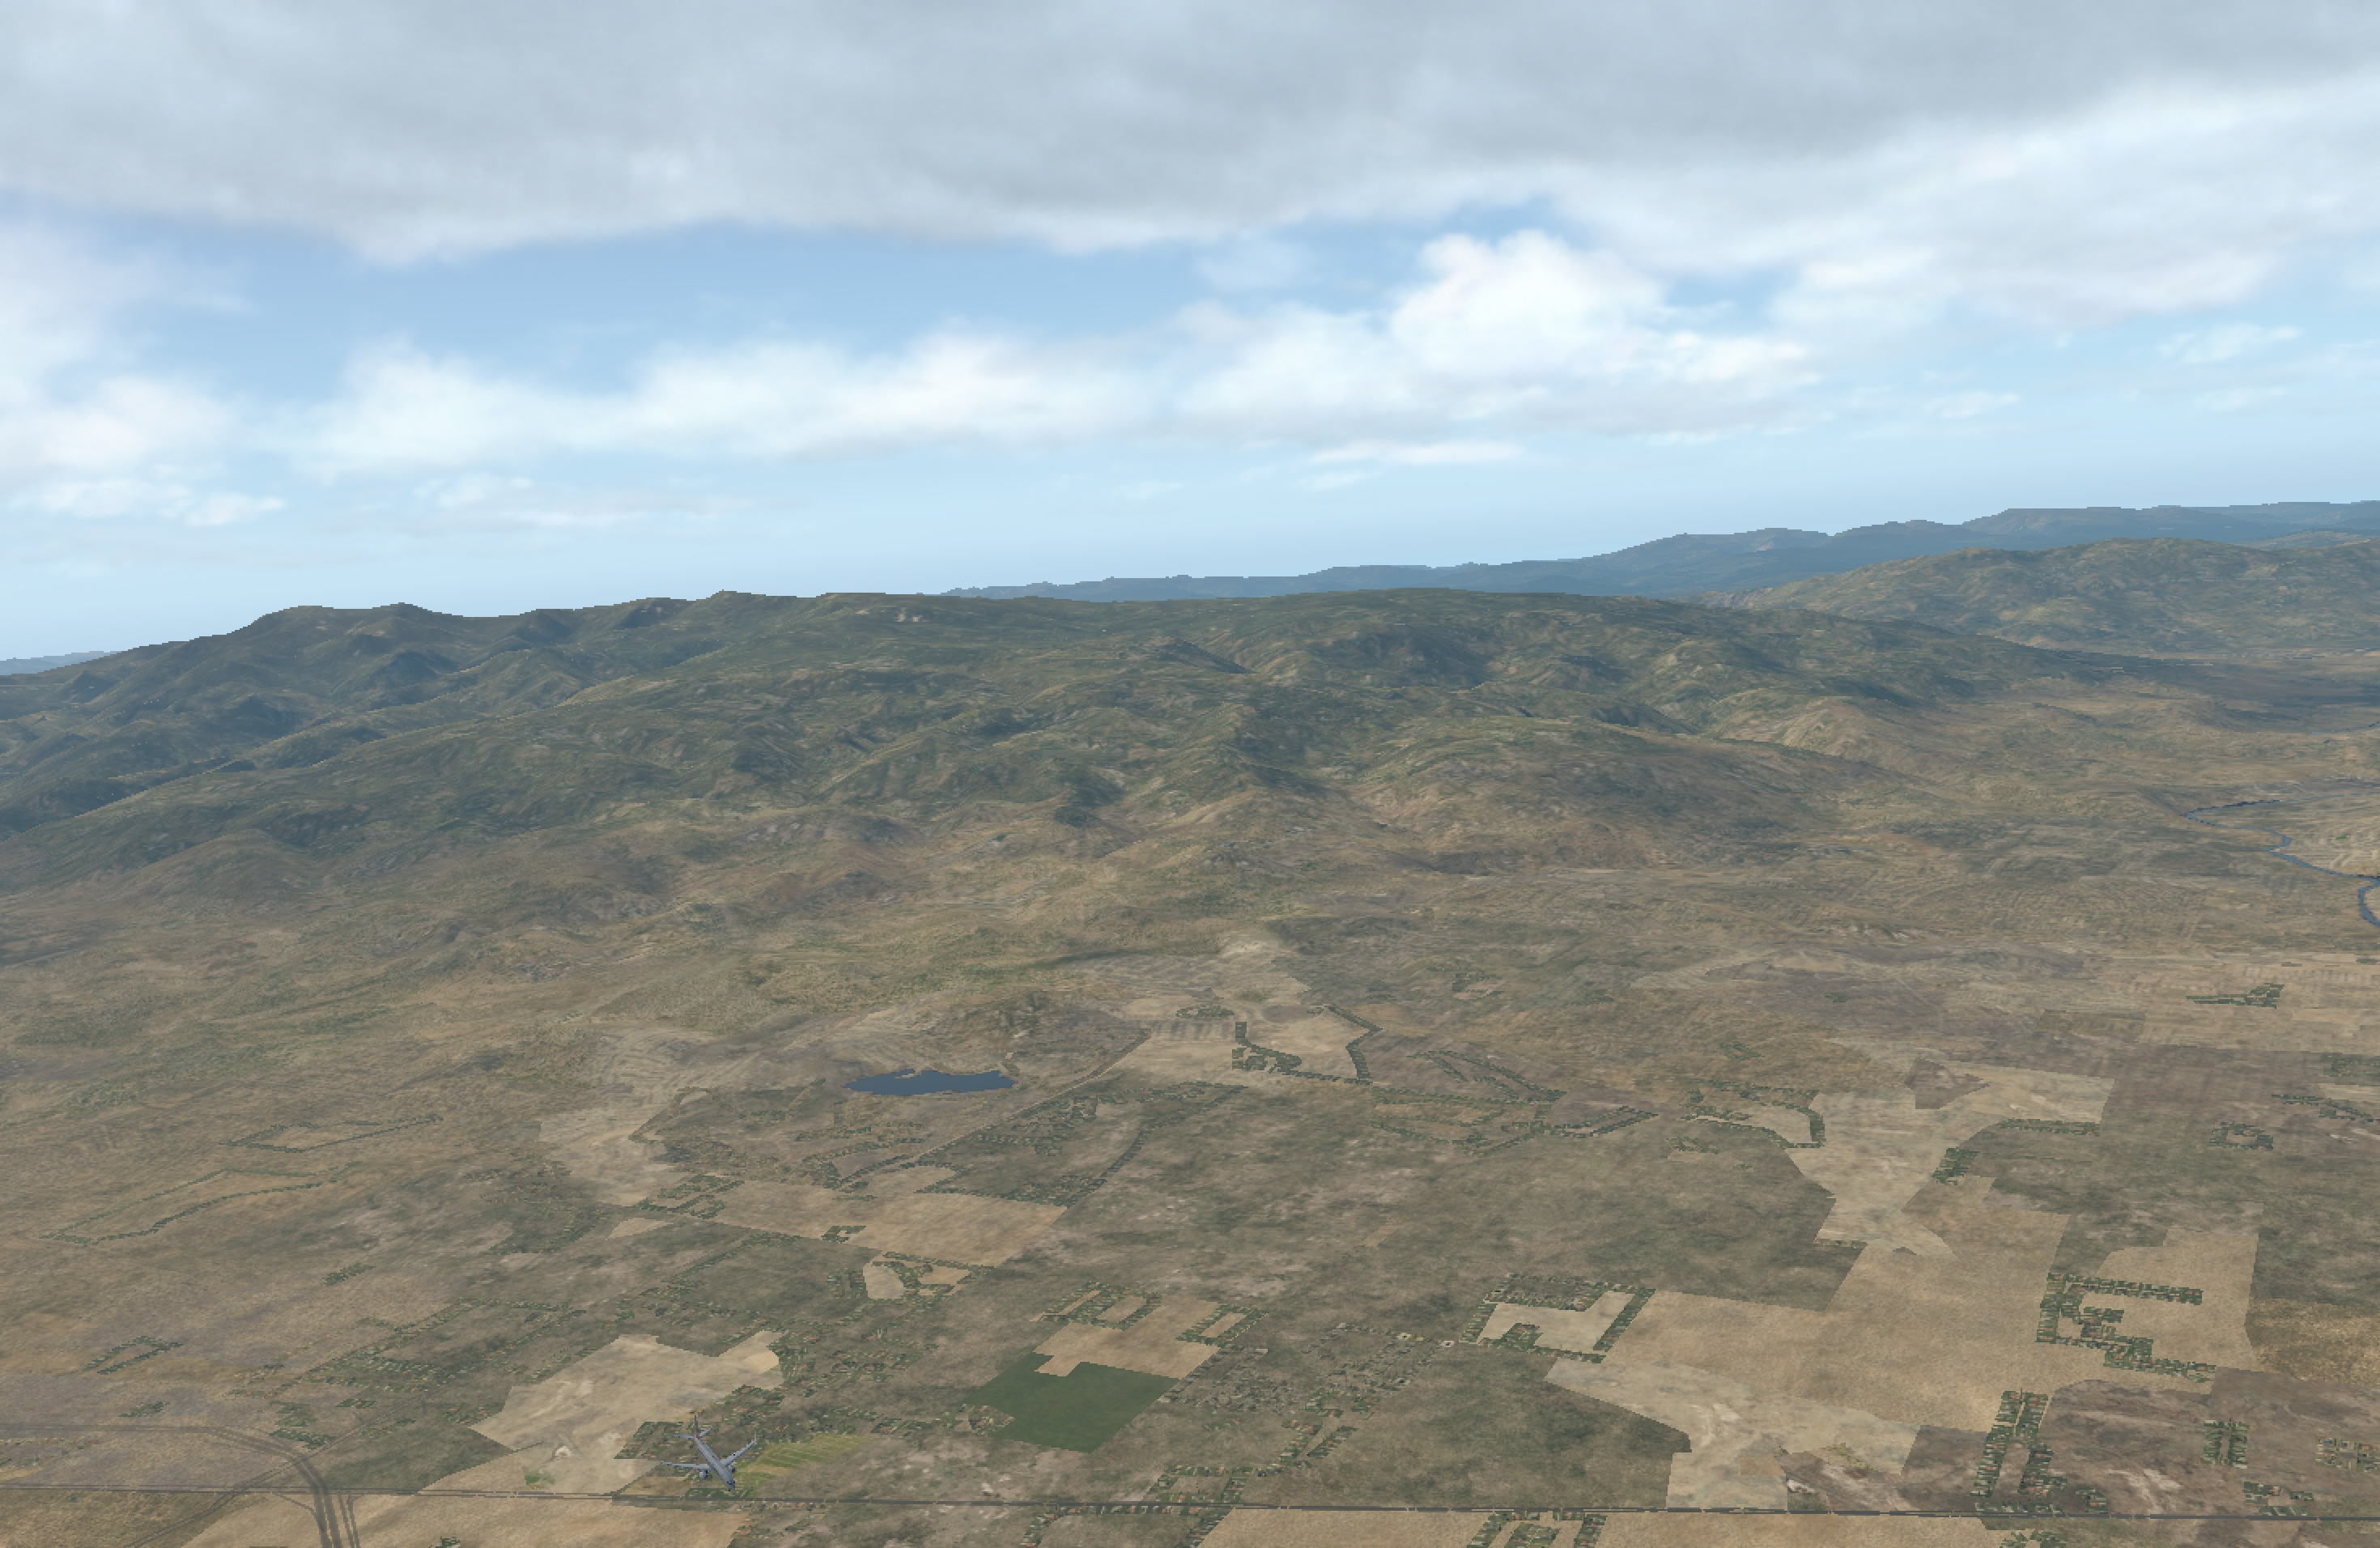aircraft: (661, 1446, 768, 1486)
